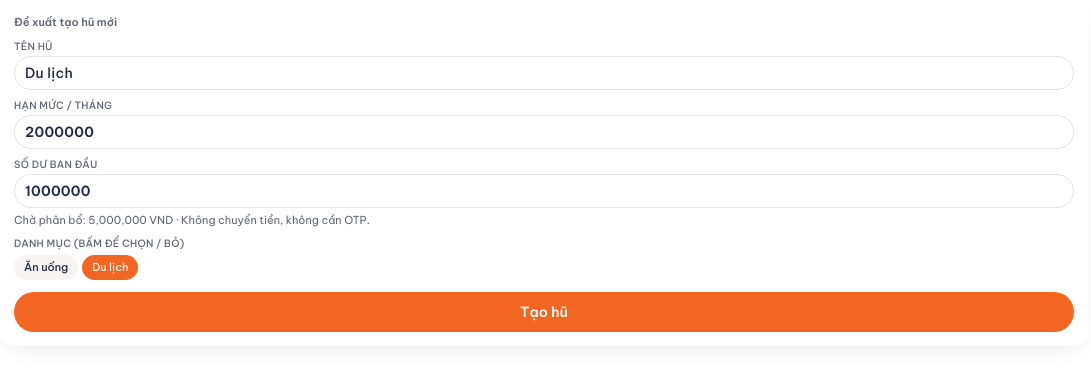
Scenario: AgentJarFormCard — create with an opening balance › a server 422 (over the CASA cap) is shown in Vietnamese and the card stays open
Click the button "Tạo hũ" at (544, 312), box 14,292 -> 1074,332
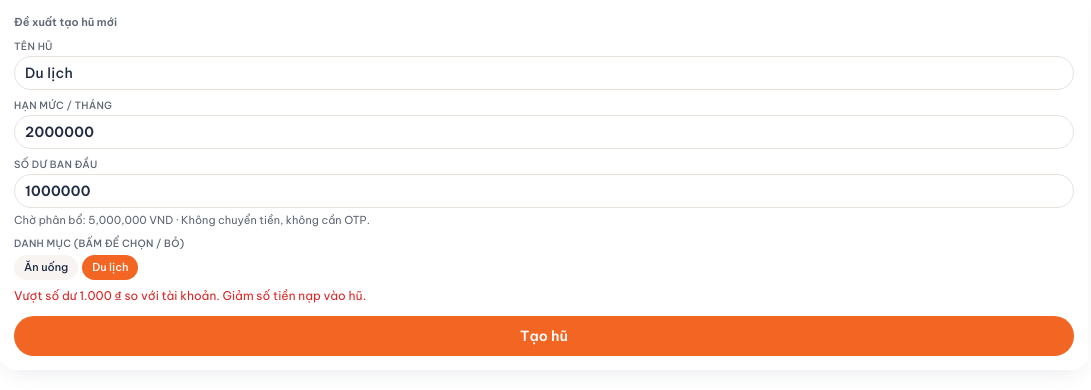
expect the button "Tạo hũ" is enabled: met, box 14,316 -> 1074,356
expect the message shows "Vượt số dư 1.000": met, box 14,288 -> 366,302
